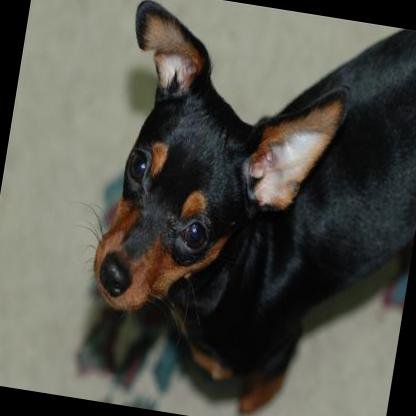miniature_pinscher: (67, 0, 416, 416)
